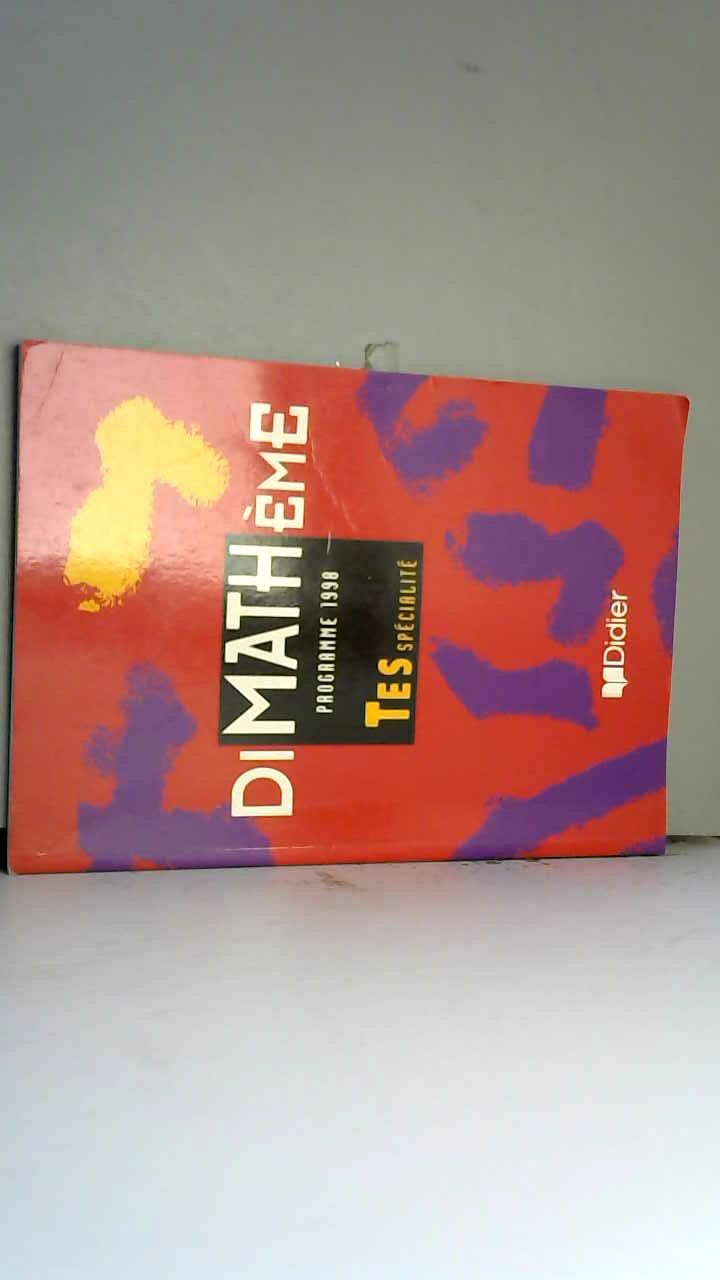book: (2, 320, 704, 897)
